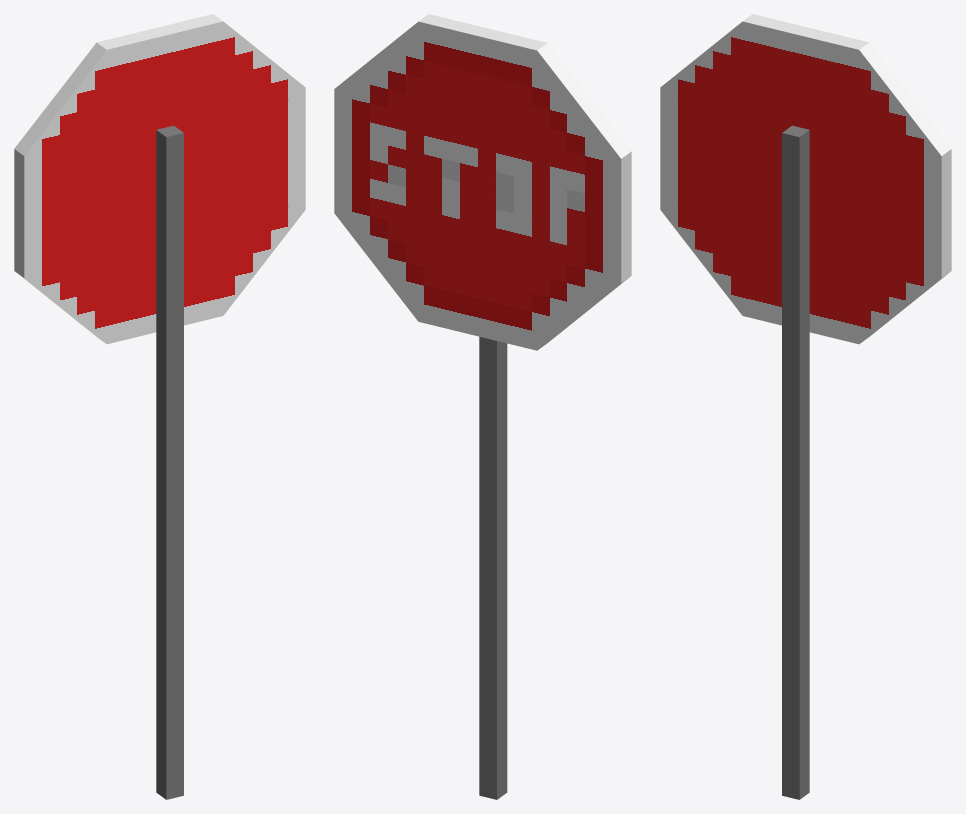
File: stop_sign.obj
3 renders of one model, left to right at view 1: azimuth 30°, elevation 25°; view 2: azimuth 150°, elevation 25°; view 3: azimuth 330°, elevation 25°, orthographic.
Parts seen in each view (by area): view 1: cylinder, cuboid; view 2: cylinder, cuboid; view 3: cylinder, cuboid.
Part boxes in pixels (x1,y1,x2,y2): cylinder: [14, 14, 305, 344]; cuboid: [156, 125, 183, 799]; cylinder: [334, 14, 631, 350]; cuboid: [479, 336, 507, 799]; cylinder: [660, 14, 951, 344]; cuboid: [782, 125, 809, 799].
Bounding box in the file's own units: 1 × 2.56 × 0.125.
Materials: 1 (1 with a texture image).
